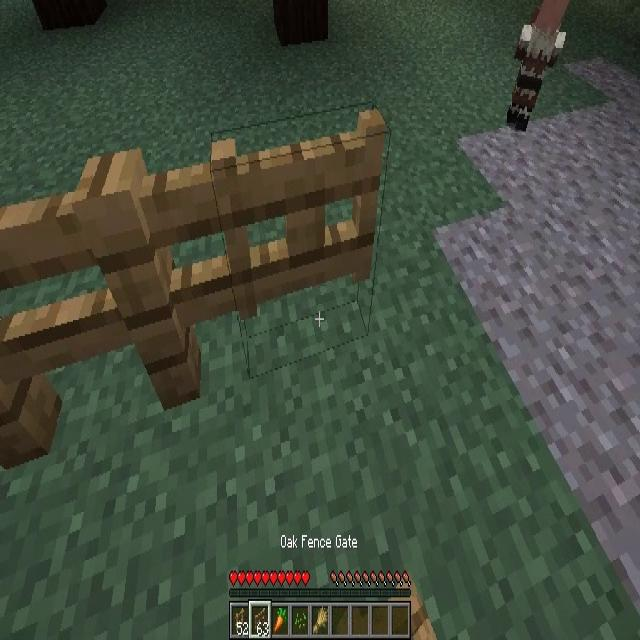people: (506, 0, 568, 132)
